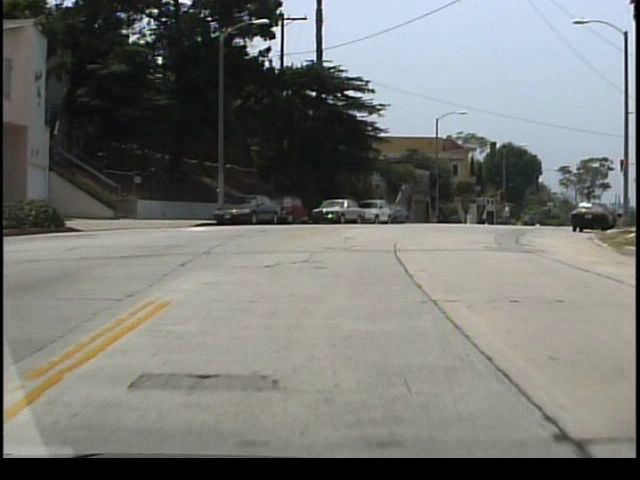person: (506, 205, 513, 226)
